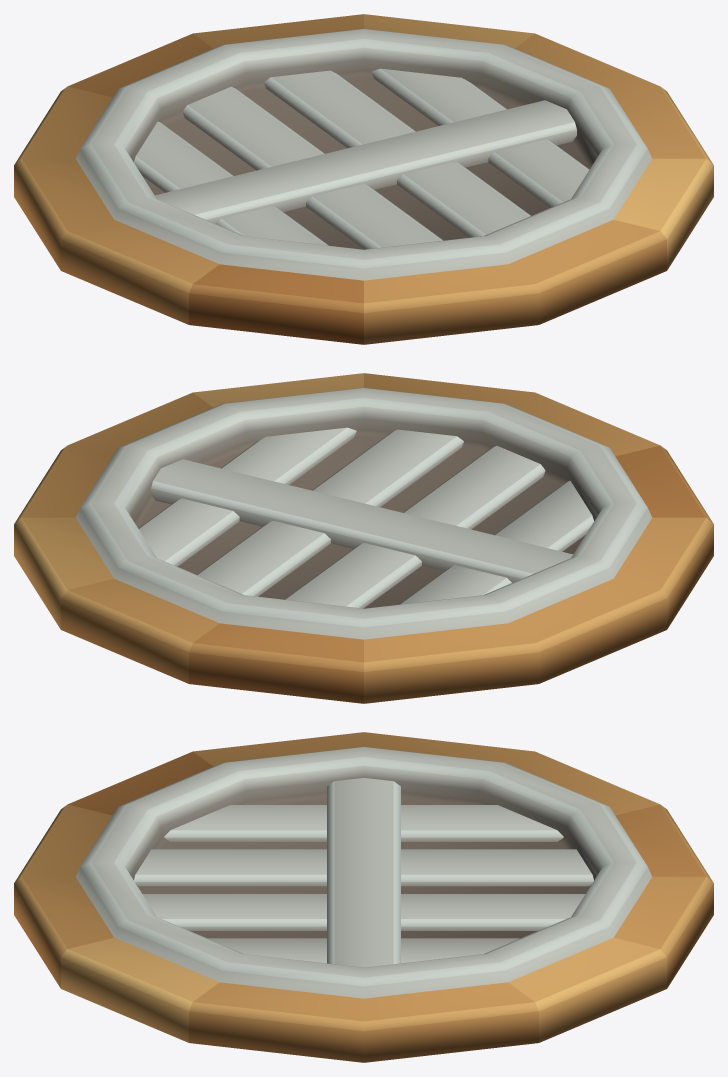
Rendered from mct_prop_drain.fbx.
3 renders of one model, top to bottom at view 1: azimuth 30°, elevation 25°; view 2: azimuth 150°, elevation 25°; view 3: azimuth 270°, elevation 25°, orthographic.
Parts seen in each view (by area): view 1: mct_drain; view 2: mct_drain; view 3: mct_drain.
Part boxes in pixels (x1=…): mct_drain: x1=14, y1=14, x2=713, y2=344; mct_drain: x1=14, y1=373, x2=713, y2=703; mct_drain: x1=14, y1=732, x2=713, y2=1062.
Size of the model in its own units: 180 by 14.89 by 180.
